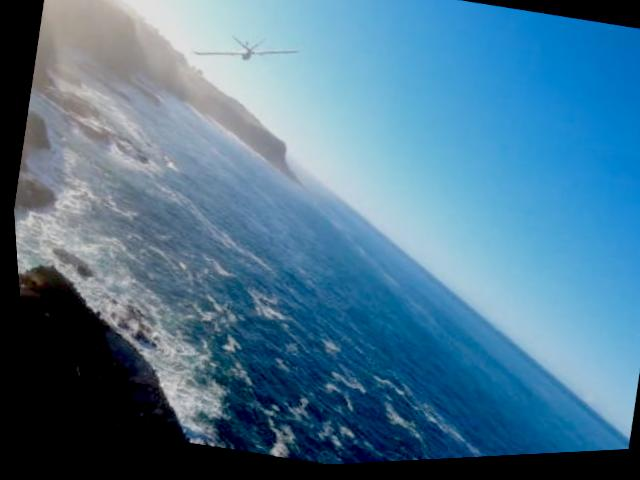uav: (189, 24, 302, 84)
